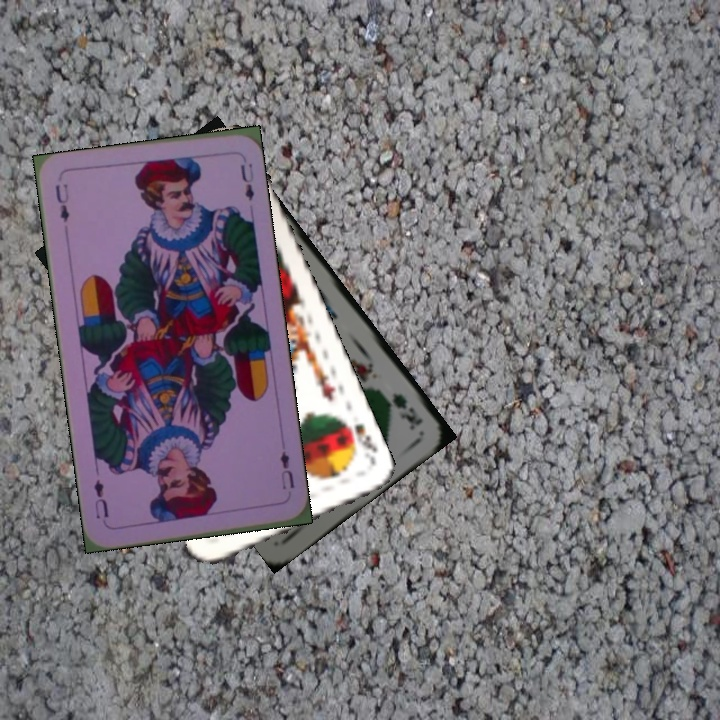EU: (276, 447, 297, 492), (51, 180, 72, 225)
GK: (388, 388, 426, 433)
SK: (338, 416, 380, 468)
